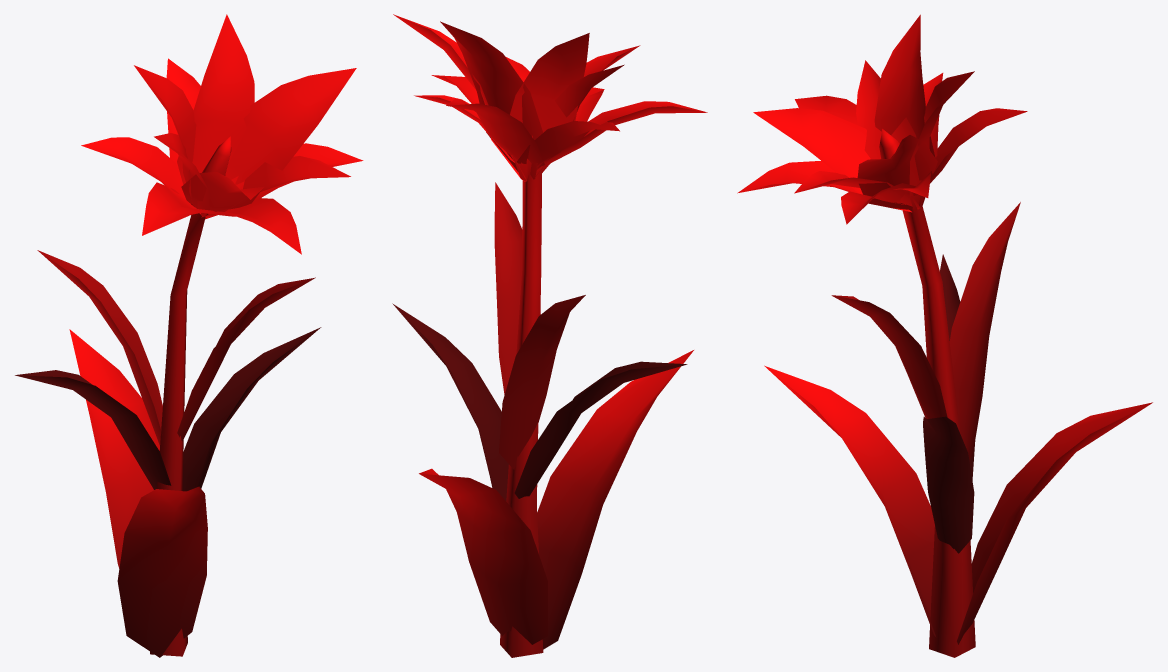
Rendered from flower_b1.fbx.
The picture shows the model from 3 angles, left to right: view 1: azimuth 30°, elevation 25°; view 2: azimuth 150°, elevation 25°; view 3: azimuth 270°, elevation 25°; orthographic projection.
Visible parts, largest first — view 1: geo_flower_b1; view 2: geo_flower_b1; view 3: geo_flower_b1.
Boxes of the visible parts, x1,y1,x2,y2 form: geo_flower_b1: (15,14,363,657); geo_flower_b1: (392,14,707,657); geo_flower_b1: (737,14,1152,657).
Bounding box in the file's own units: 0.4045 × 0.746 × 0.4595.
